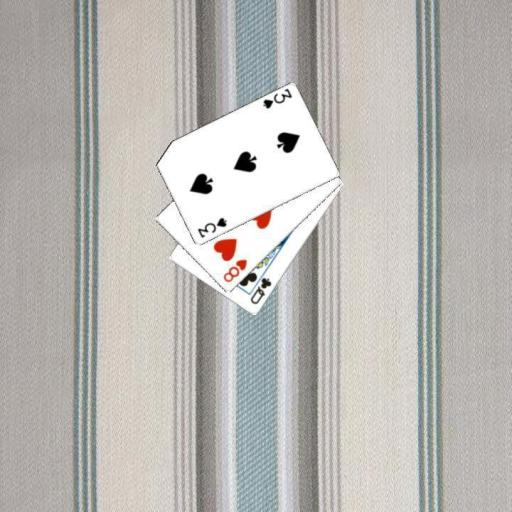card-corner: (194, 214, 228, 240), (247, 274, 273, 306), (220, 256, 249, 284), (260, 86, 293, 110)
